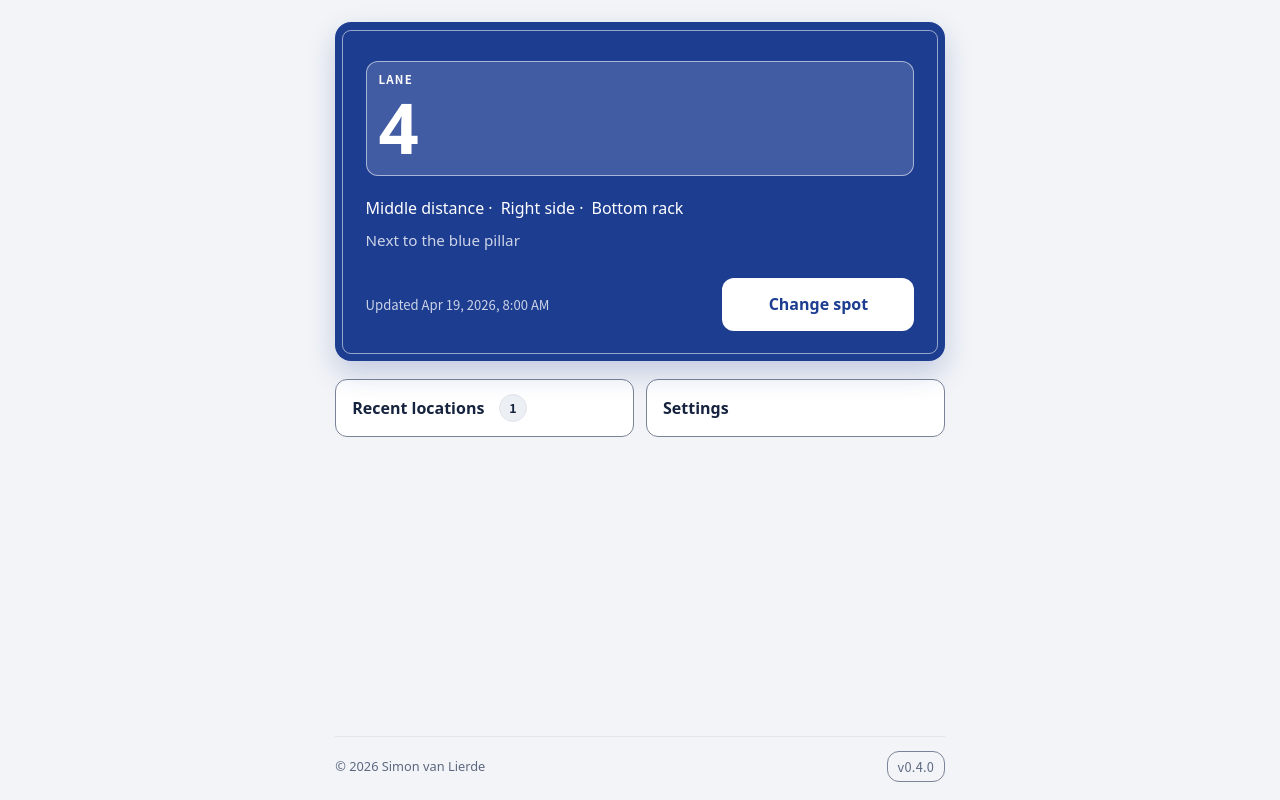
Test: editor values carried from the last spot › labels the carried floor and resets it with one control
This screenshot has width=1280, height=800.
What coordinates should you click on to do the following:
click the button "Change spot"
I would click on:
 (818, 304)
Its box is x1=722 y1=278 x2=914 y2=331.
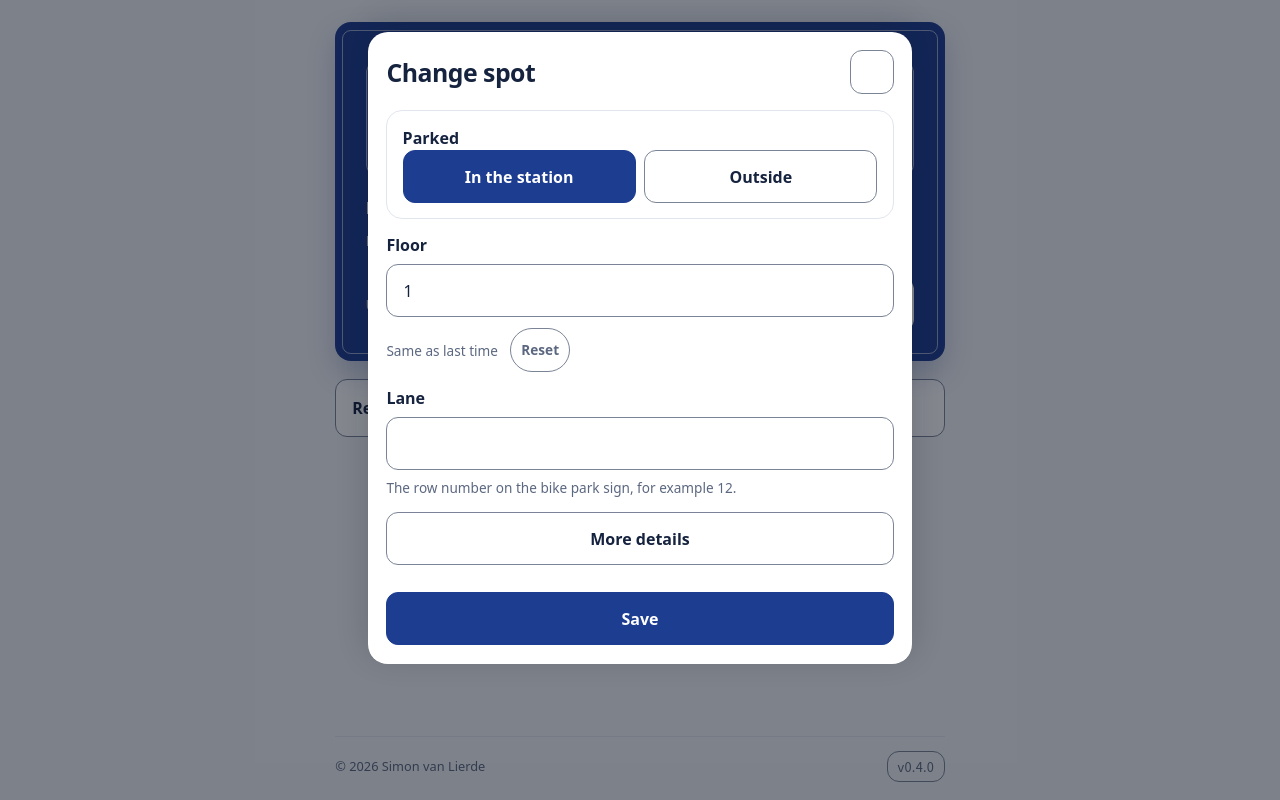
Expected: the field labelled "Floor" holds "1", x1=386 y1=264 x2=894 y2=317
Expected: the text "Same as last time" is shown, x1=386 y1=341 x2=498 y2=360
What coordinates should you click on to do the following:
click the button "Reset"
I would click on:
 (540, 350)
Its box is x1=510 y1=328 x2=570 y2=372.
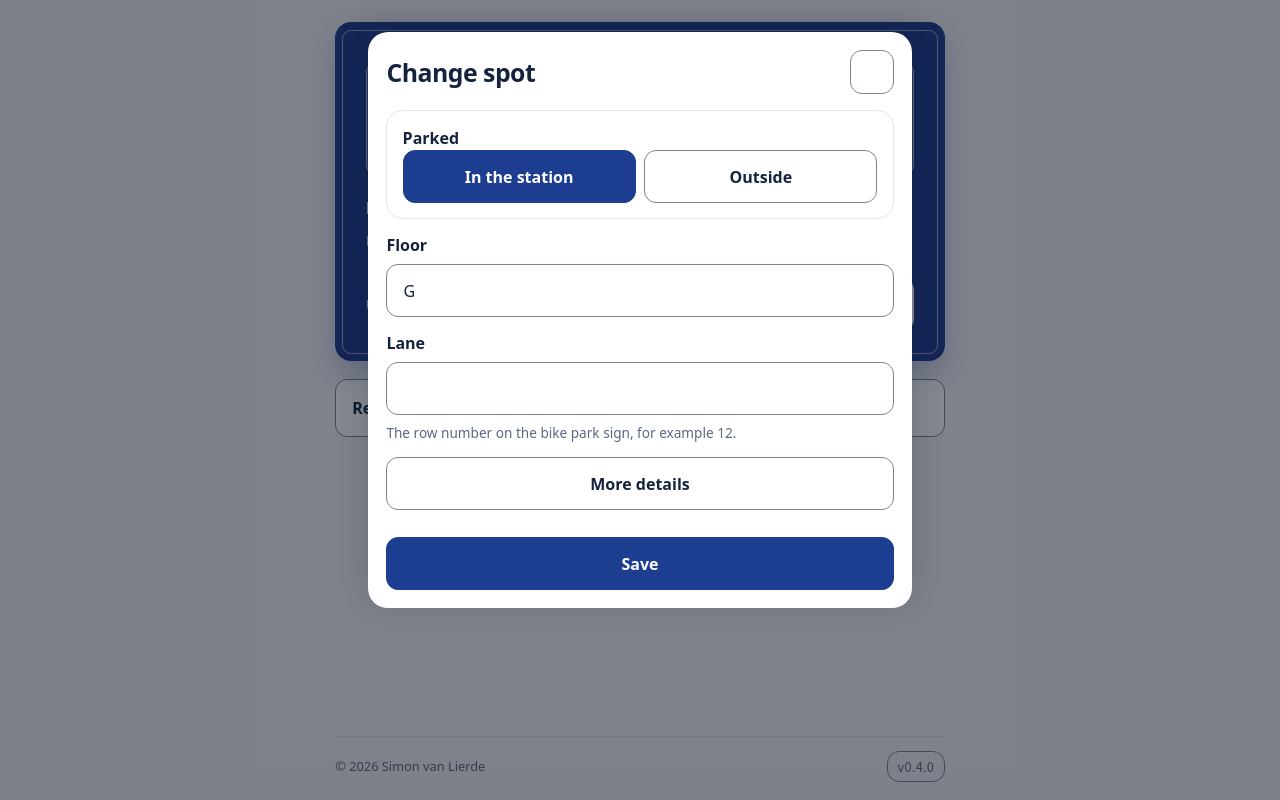
Expected: the field labelled "Floor" holds "G", x1=386 y1=264 x2=894 y2=317
Expected: the text "Same as last time" is gone
